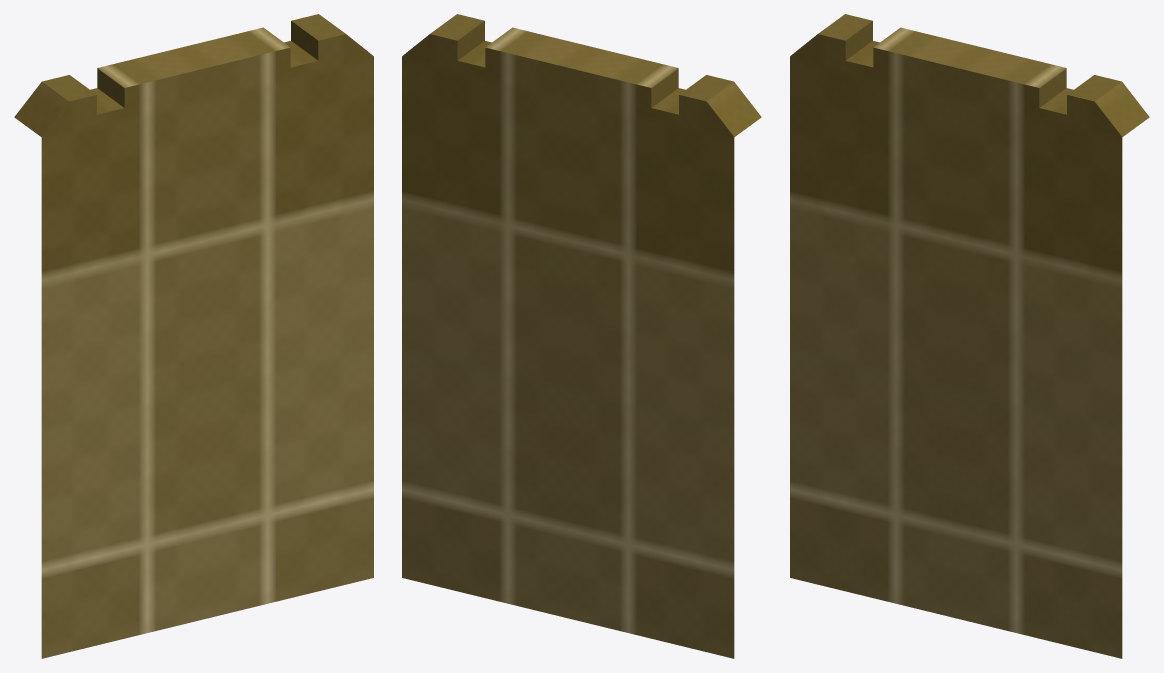
File: grave_powered_doorway_door.glb
3 views of the same model, side by side, from view 1: azimuth 30°, elevation 25°; view 2: azimuth 150°, elevation 25°; view 3: azimuth 330°, elevation 25° (orthographic).
Parts seen in each view (by area): view 1: powered_doorway_door; view 2: powered_doorway_door; view 3: powered_doorway_door.
Part boxes in pixels (x1,y1,x2,y2): powered_doorway_door: [14, 14, 373, 658]; powered_doorway_door: [402, 14, 761, 658]; powered_doorway_door: [790, 14, 1149, 658].
Size of what is drawn, in the model's own units: 1.2 by 1.9 by 0.1711.
Materials: 1 (1 with a texture image).
